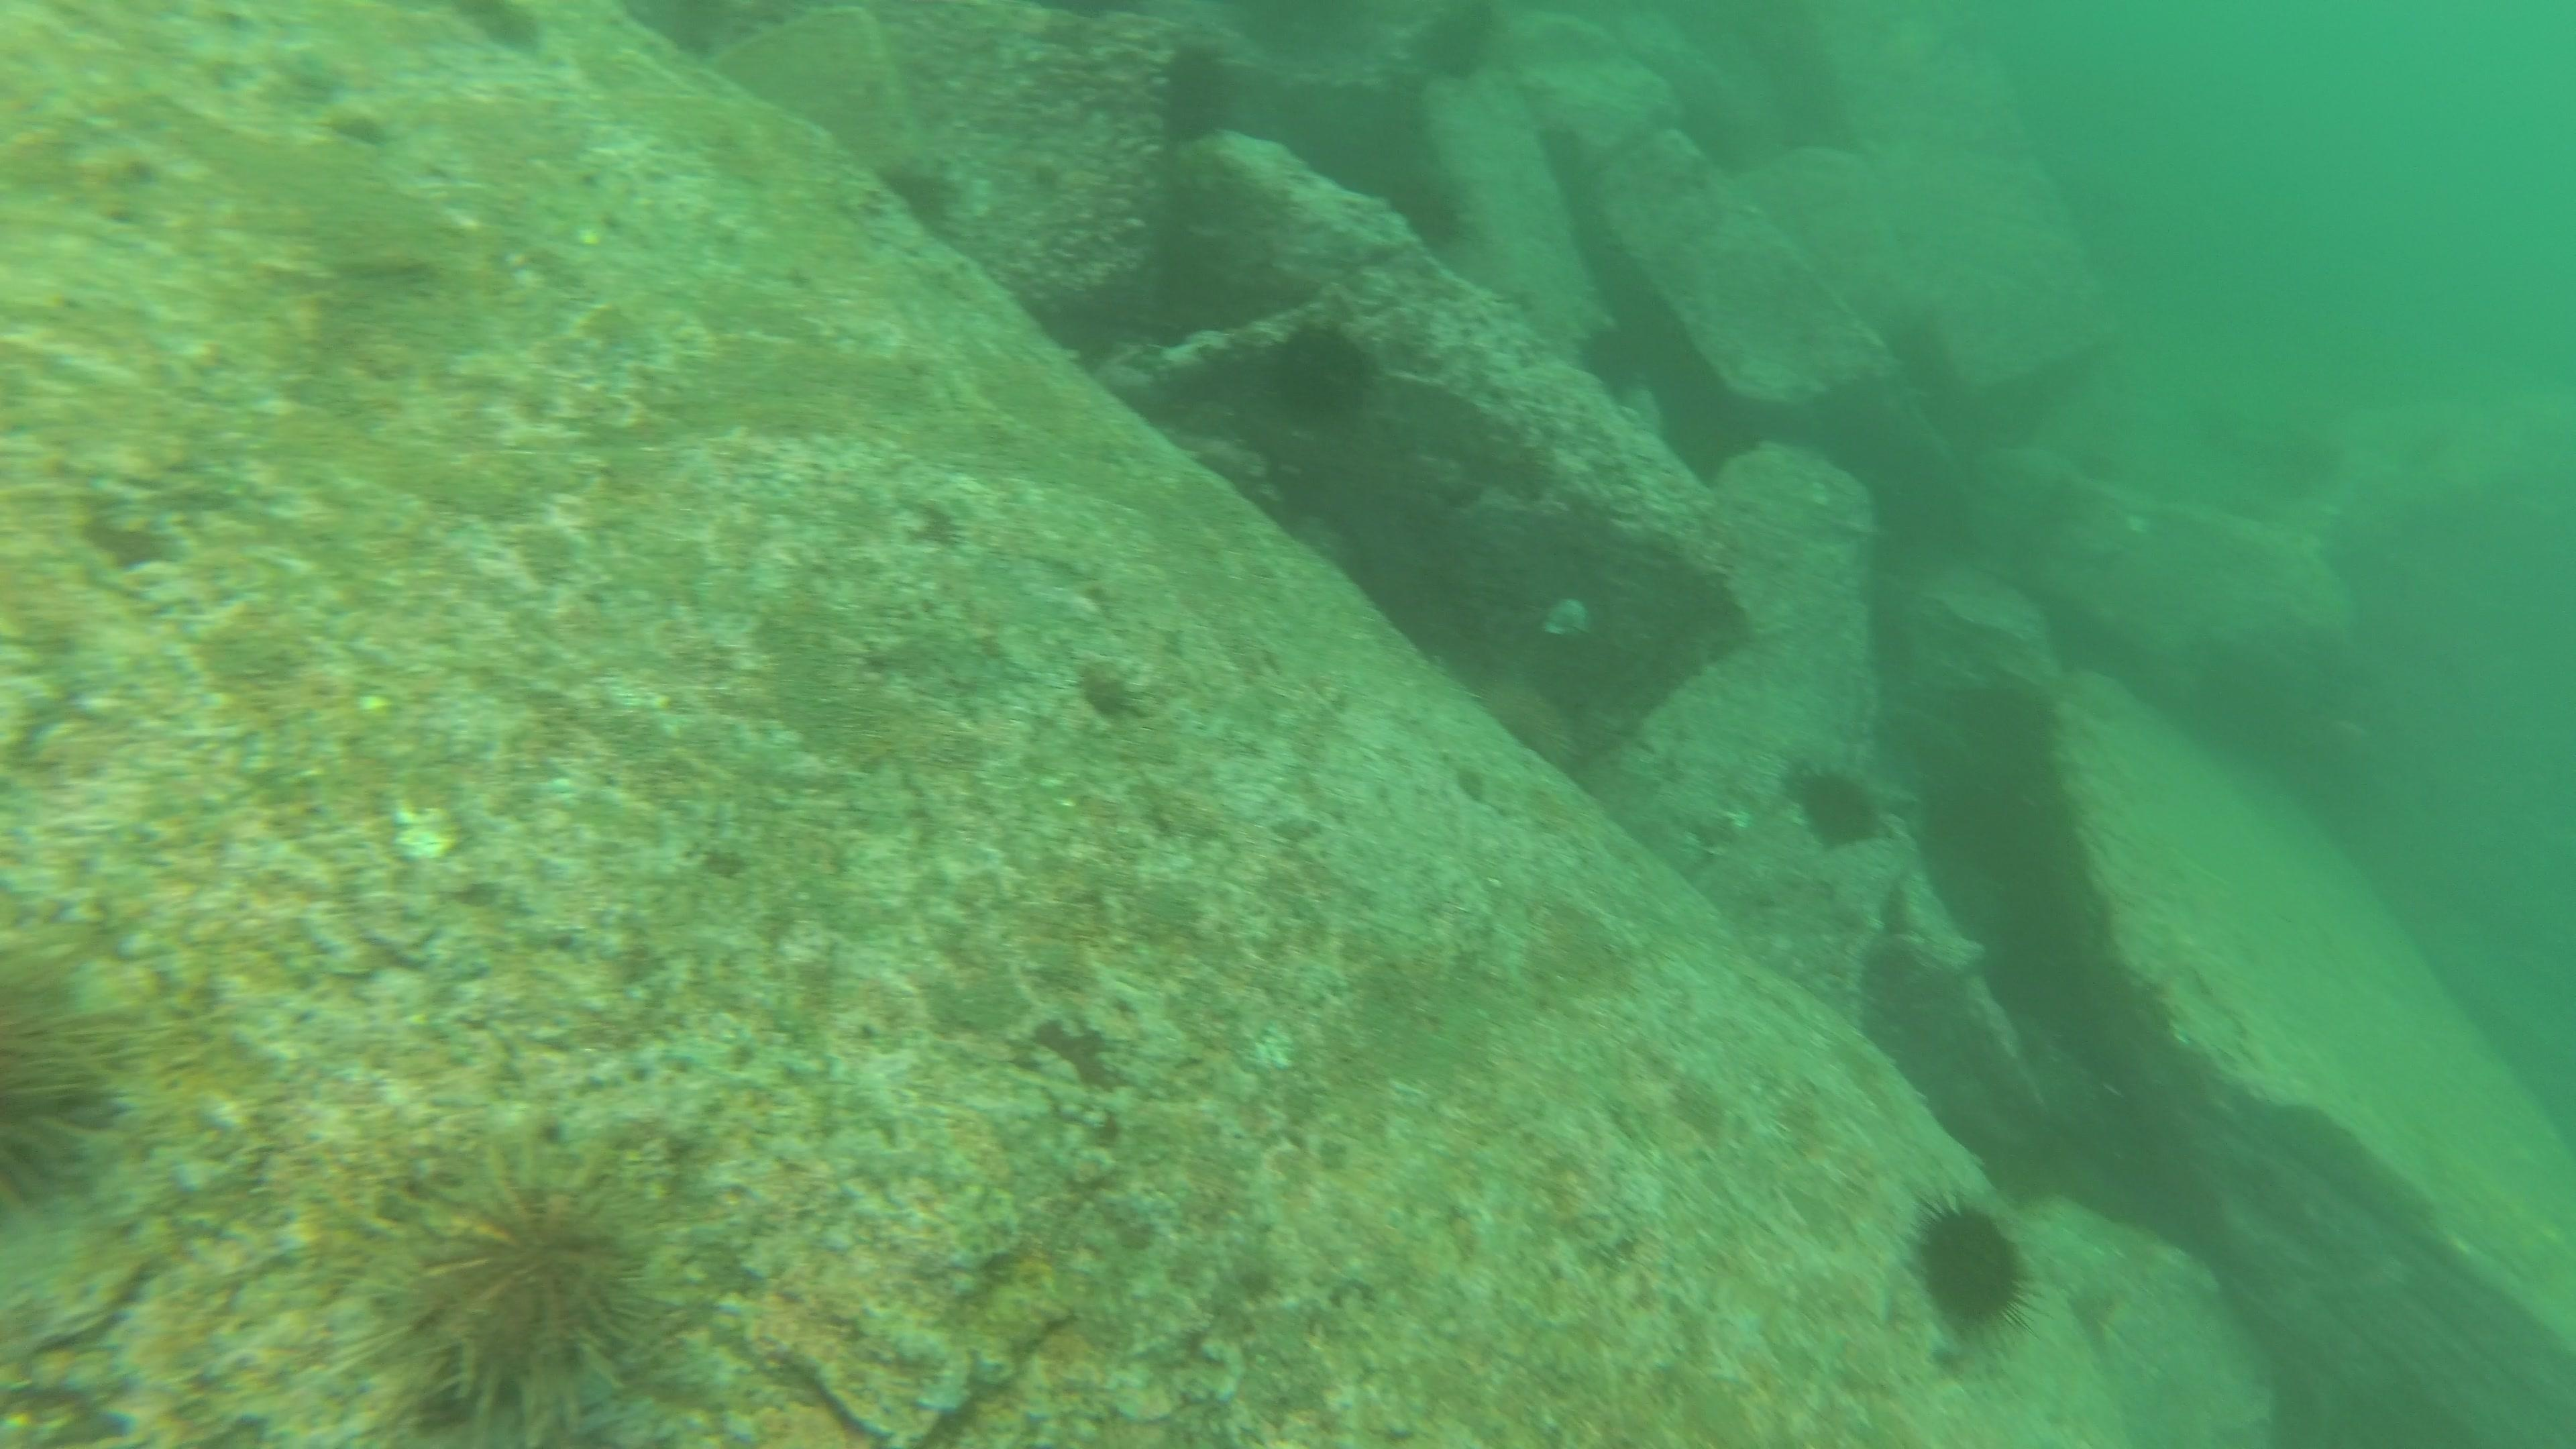echinus: (334, 1131, 678, 1437), (0, 938, 129, 1224), (1902, 1189, 2038, 1341), (1260, 315, 1382, 432), (1782, 755, 1890, 855), (1146, 39, 1244, 149), (1376, 163, 1479, 260), (1405, 2, 1509, 87)
